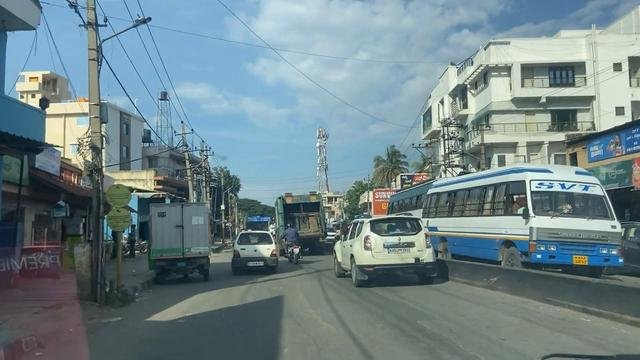HMV: (148, 202, 209, 282), (277, 193, 324, 249)
LMV: (333, 215, 439, 283), (235, 232, 275, 274)
RoadDamages: (394, 296, 490, 360), (291, 275, 339, 335)
